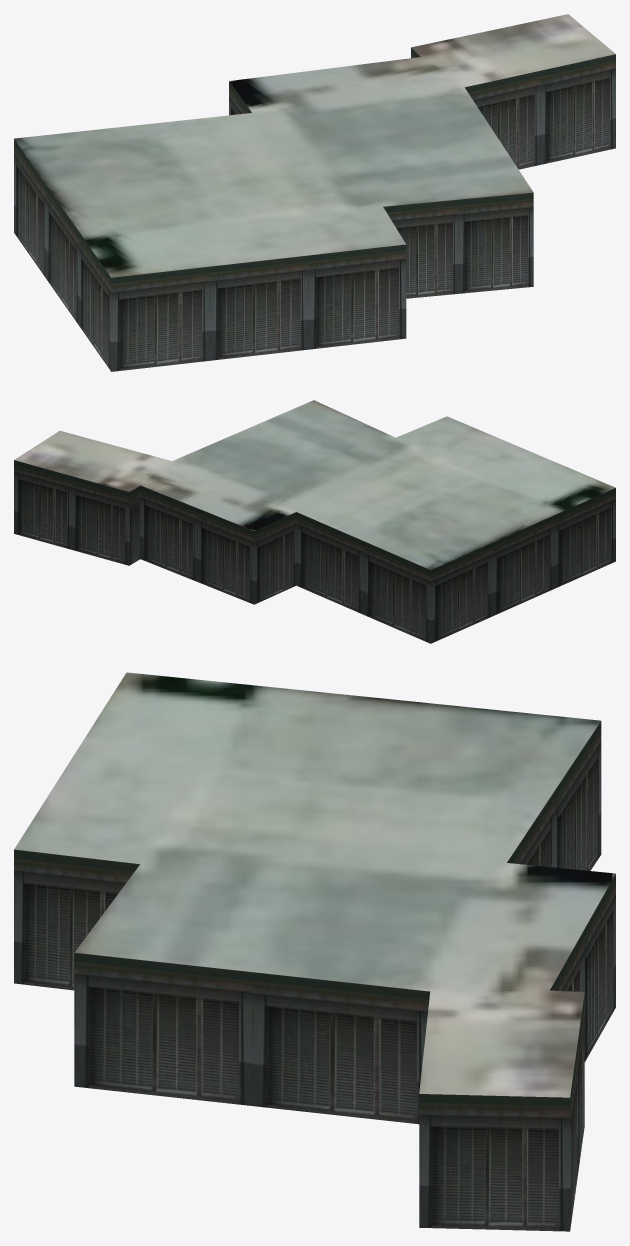
The picture shows the model from 3 angles, top to bottom: view 1: azimuth 30°, elevation 25°; view 2: azimuth 150°, elevation 25°; view 3: azimuth 270°, elevation 25°; orthographic projection. The views are drawn at different scales.
Visible parts, largest first — view 1: SketchUp (×5); view 2: SketchUp (×7); view 3: SketchUp (×7).
Boxes of the visible parts, x1,y1,x2,y2 form: SketchUp (×5): [14, 14, 615, 371]; SketchUp (×7): [14, 400, 615, 643]; SketchUp (×7): [14, 672, 615, 1231].
Bounding box in the file's own units: 30.38 × 18.17 × 4.46.
Materials: 2 (2 with a texture image).
